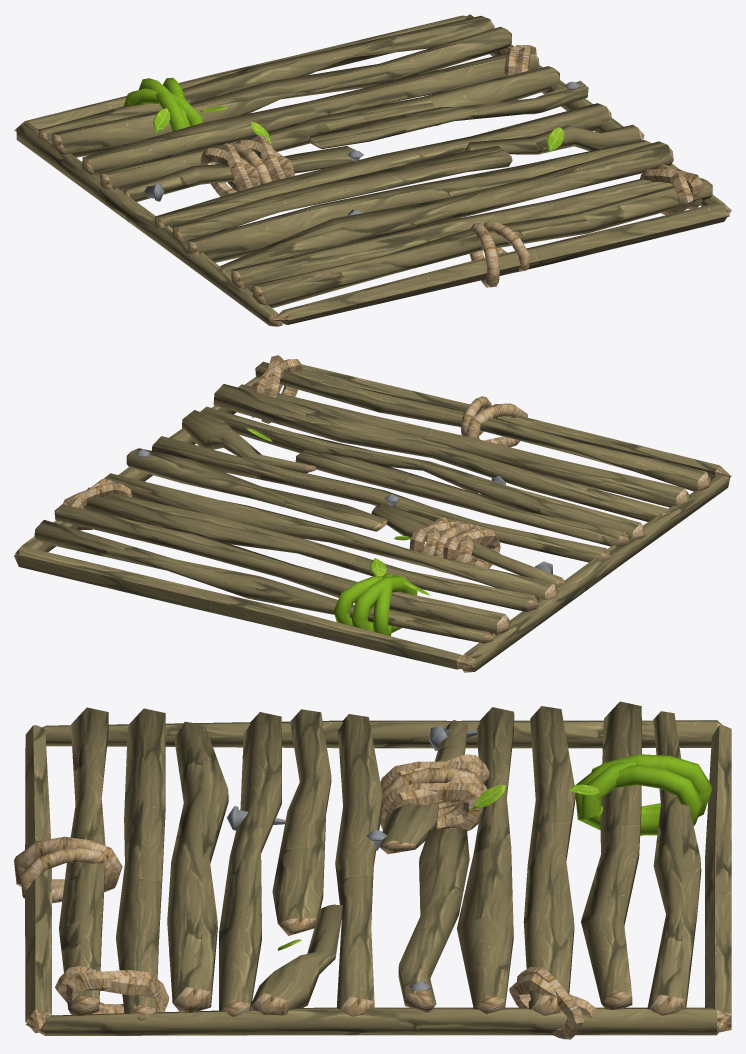
File: Wall.FBX
3 renders of one model, top to bottom at view 1: azimuth 30°, elevation 25°; view 2: azimuth 150°, elevation 25°; view 3: azimuth 270°, elevation 25°, orthographic. The views are drawn at different scales.
Visible parts, largest first — view 1: Floor001; view 2: Floor001; view 3: Floor001.
Boxes of the visible parts, <box> form: Floor001: <box>14,14,731,326</box>; Floor001: <box>14,355,731,672</box>; Floor001: <box>14,701,731,1039</box>.
Bounding box in the file's own units: 6.08 × 0.7038 × 6.1.
